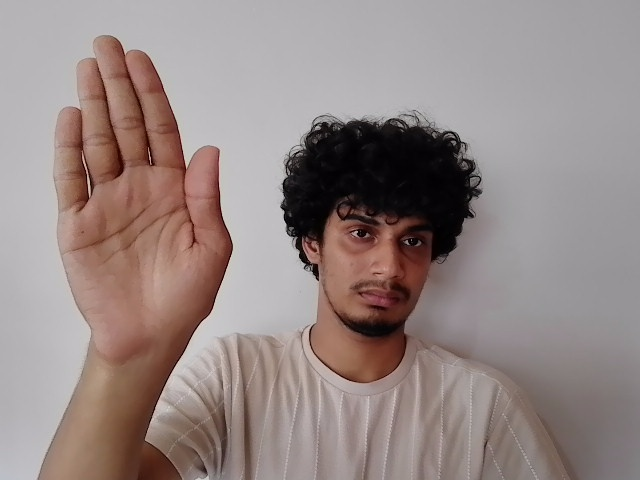hello: (49, 33, 237, 361)
